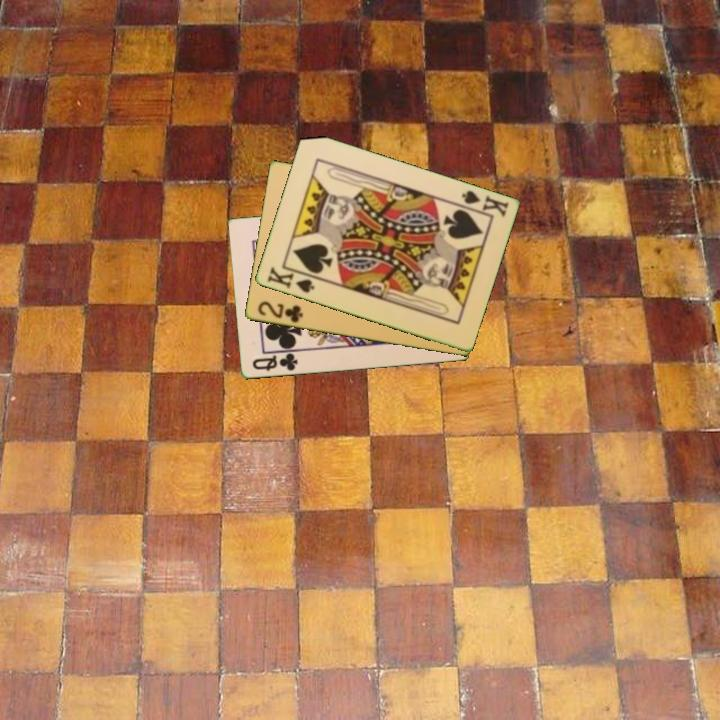2c: (254, 298, 306, 326)
Ks: (454, 187, 511, 220), (264, 263, 320, 296)
Qc: (249, 350, 300, 374)
